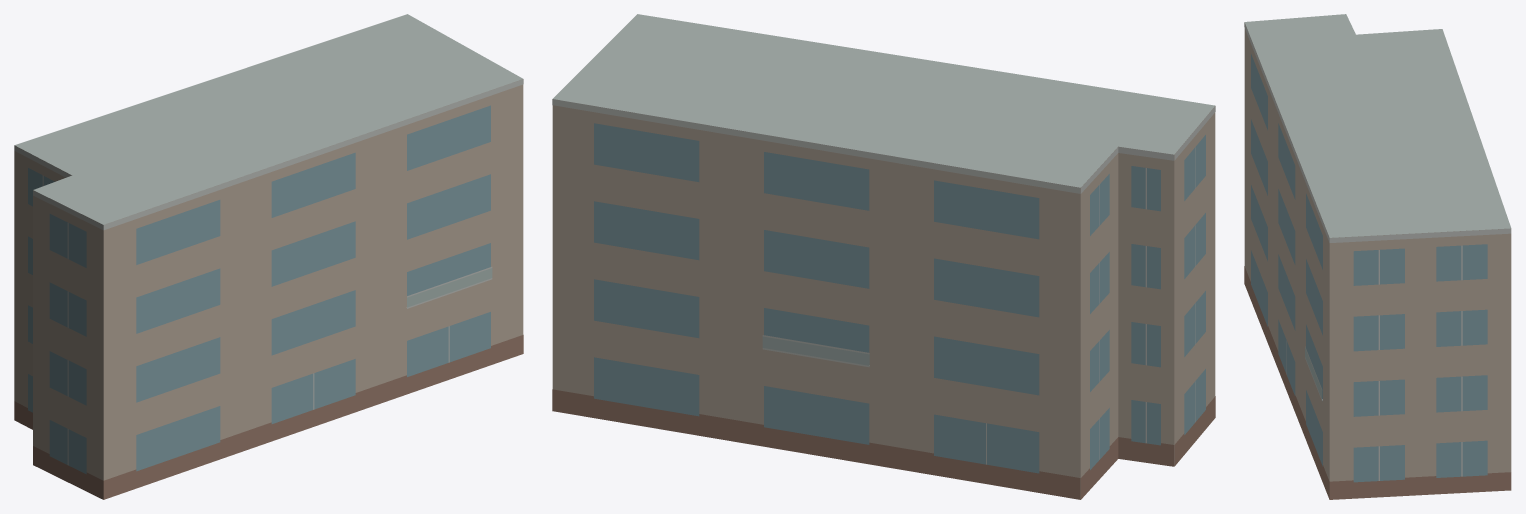
The model's file is survey-upis-32720351.glb.
The picture shows the model from 3 angles, left to right: view 1: azimuth 30°, elevation 25°; view 2: azimuth 150°, elevation 25°; view 3: azimuth 270°, elevation 25°; orthographic projection. The views are drawn at different scales.
Visible parts, largest first — view 1: survey-upis-32720351.tmp; view 2: survey-upis-32720351.tmp; view 3: survey-upis-32720351.tmp.
Part boxes in pixels (x1,y1,x2,y2): survey-upis-32720351.tmp: (14, 14, 523, 499); survey-upis-32720351.tmp: (552, 14, 1215, 499); survey-upis-32720351.tmp: (1244, 14, 1511, 499).
Size of the model in its own units: 22.37 by 12.2 by 11.28.
